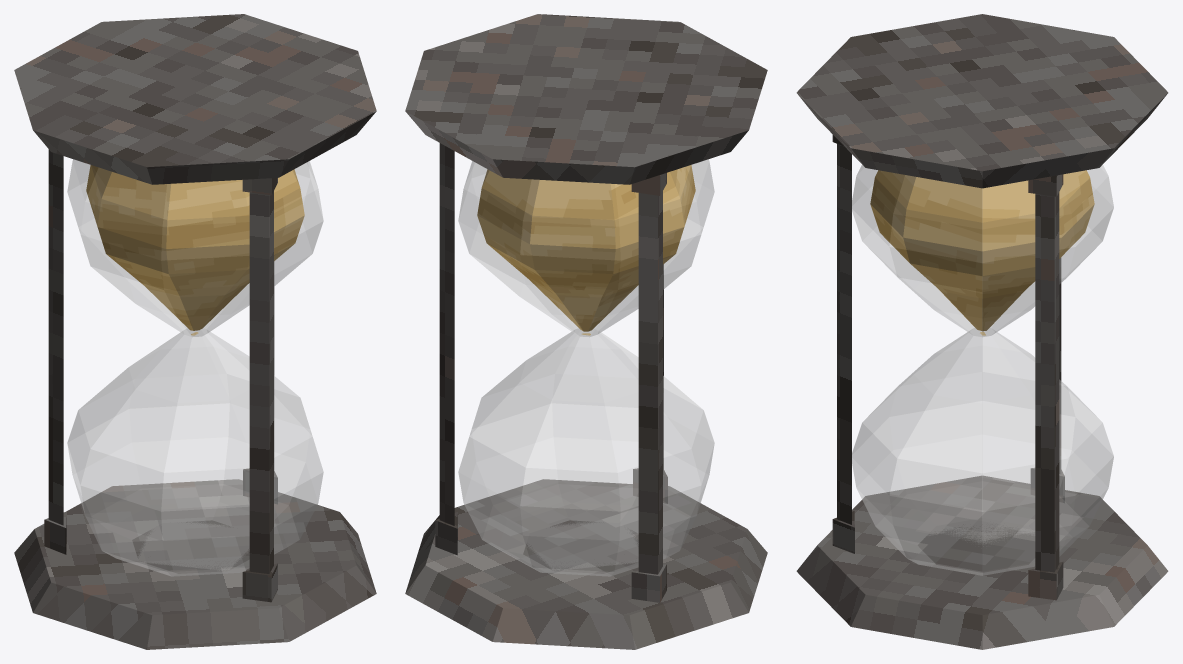
File: hourglass.glb
3 renders of one model, left to right at view 1: azimuth 30°, elevation 25°; view 2: azimuth 150°, elevation 25°; view 3: azimuth 270°, elevation 25°, orthographic.
Parts seen in each view (by area): view 1: lid, glass, sand_top, poles; view 2: lid, glass, sand_top, poles; view 3: lid, glass, sand_top, poles.
Part boxes in pixels (x1,y1,x2,y2): lid: [14, 14, 376, 649]; glass: [67, 159, 323, 576]; sand_top: [86, 165, 304, 330]; poles: [44, 149, 277, 602]; lid: [405, 14, 767, 649]; glass: [458, 159, 714, 576]; sand_top: [477, 165, 695, 331]; poles: [435, 143, 667, 602]; lid: [796, 14, 1168, 649]; glass: [852, 164, 1113, 575]; sand_top: [870, 170, 1094, 331]; poles: [832, 135, 1064, 600].
Bounding box in the file's own units: 0.4158 × 0.59 × 0.4158.
3 materials, 2 textured.
